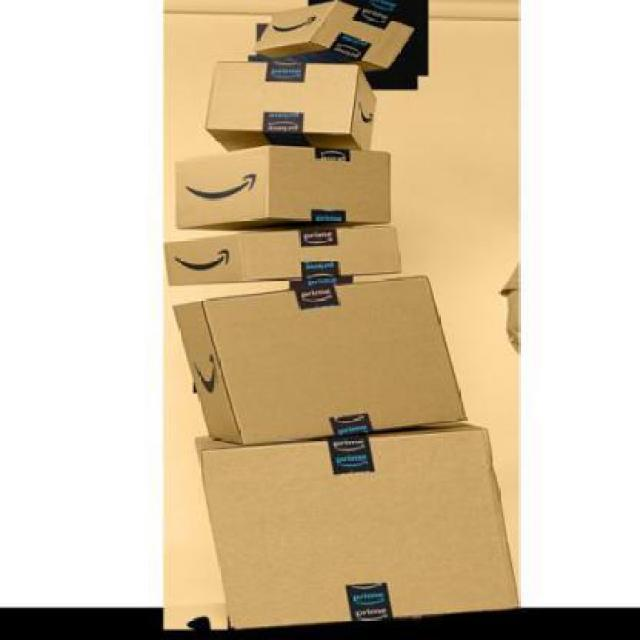box: (190, 421, 521, 627), (175, 271, 469, 445), (176, 141, 387, 227), (206, 56, 377, 156), (157, 221, 396, 289), (258, 0, 410, 76)
